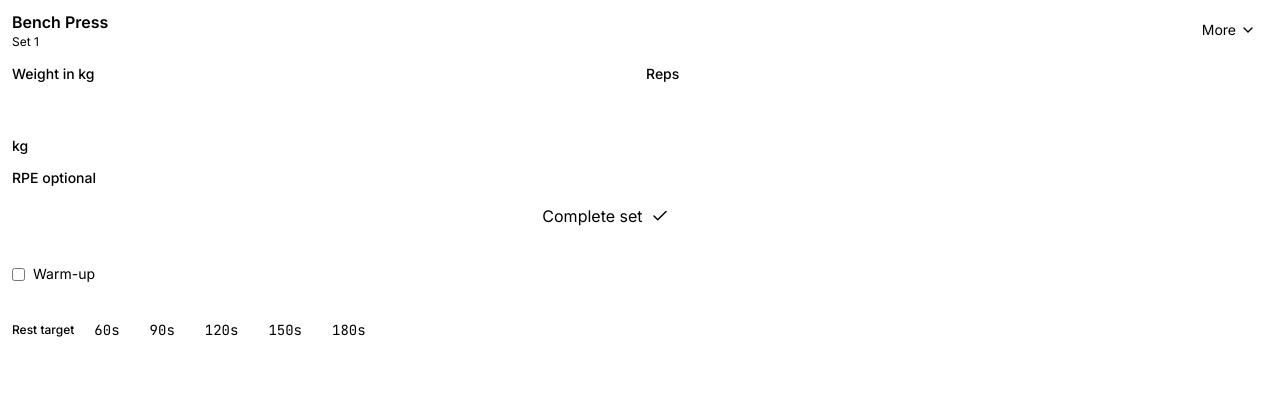
Test: per-exercise rest target consumer wiring › changes the target of a paused session without starting or advancing the clock
Step 1. Click the button "Complete set" → {"x": 592, "y": 216}, box [542,192,1268,240]
Wait 30000 ms
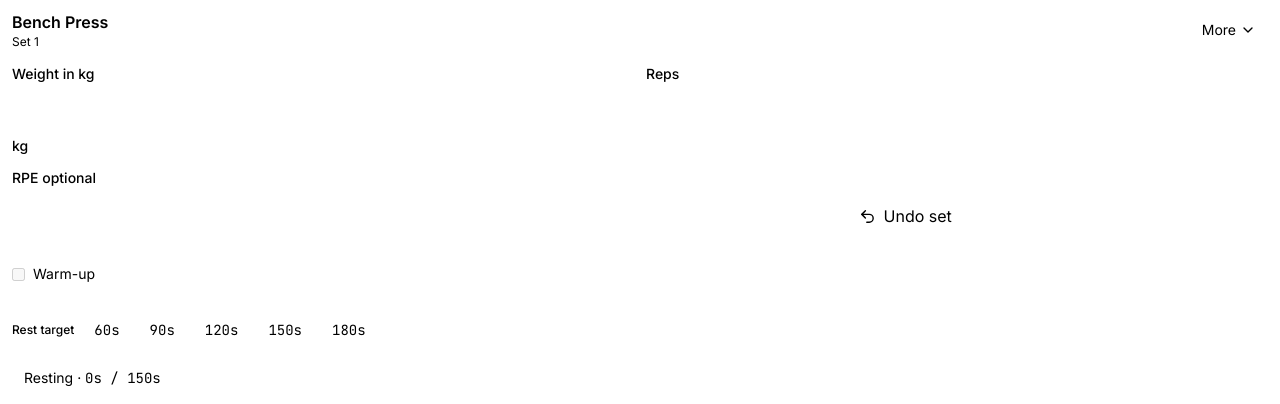
Result: the element showing "Resting · 0s / 150s" is shown at [24,369,161,387]
